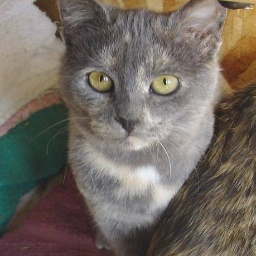cat: (56, 1, 224, 256)
